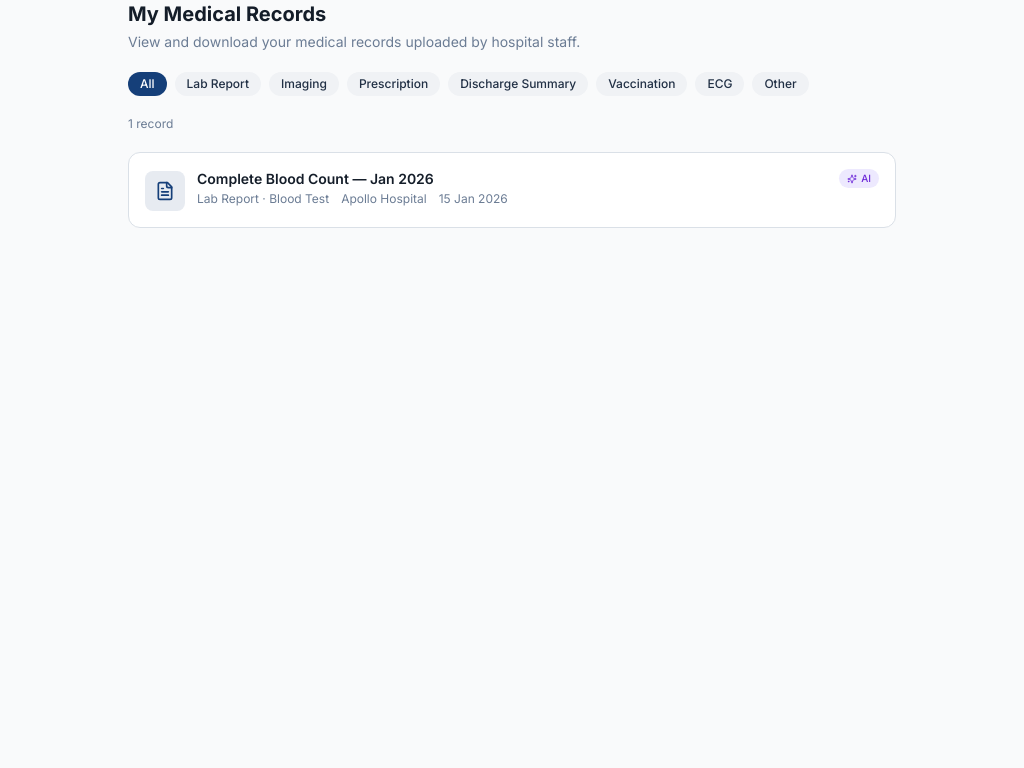
Test case: PatientRecordsPage — Detail modal › closes the modal when backdrop is clicked
Click the text "Complete Blood Count — Jan 2026" at [315, 178], box [197,170,434,187]
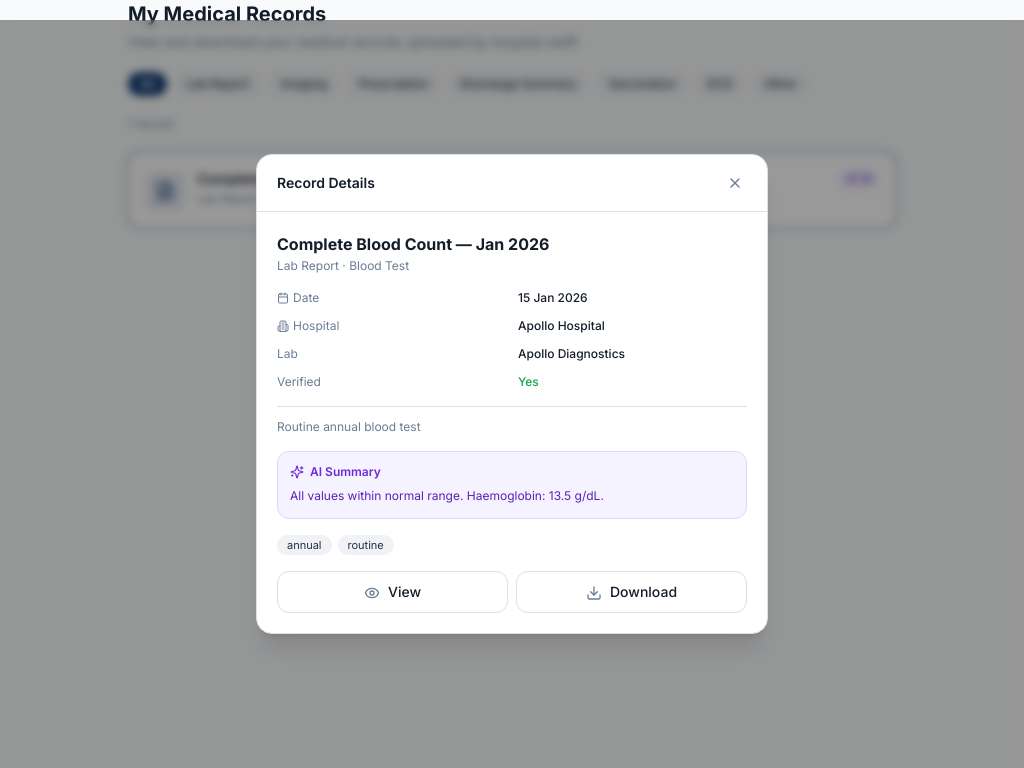
Expected: the heading "Record Details" is shown, [277,173,375,193]
// Click the modal backdrop (fixed overlay div)
Click the element with class "inset-0" at [61, 394], box [0,20,1023,767]
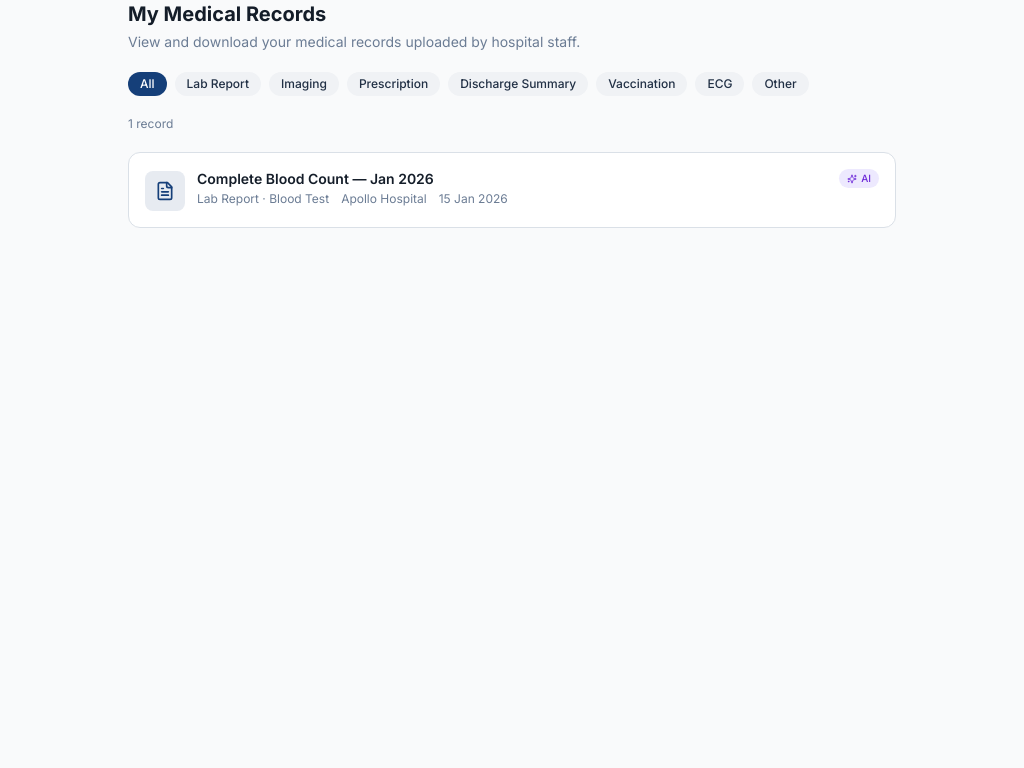
Expected: the heading "Record Details" is gone
